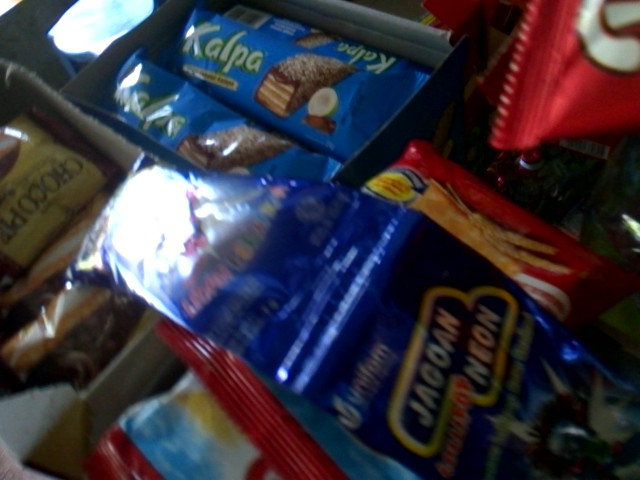jagoan neon: (281, 202, 640, 479)
